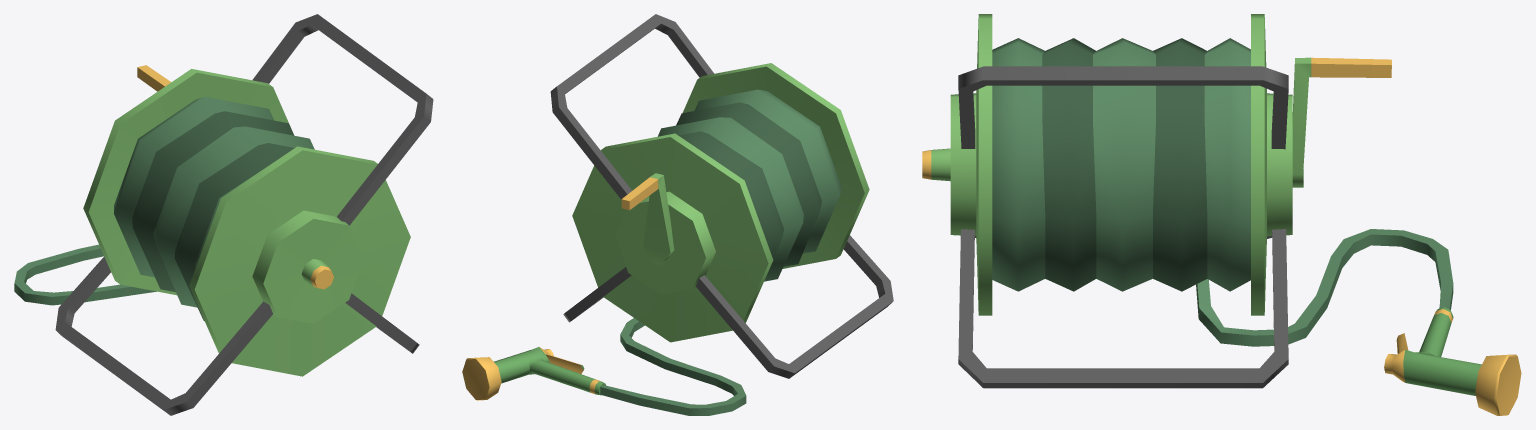
Rendered from SM_Prop_HoseReel_01.obj.
The picture shows the model from 3 angles, left to right: view 1: azimuth 30°, elevation 25°; view 2: azimuth 150°, elevation 25°; view 3: azimuth 270°, elevation 25°; orthographic projection. The views are drawn at different scales.
Visible parts, largest first — view 1: SM_Prop_HoseReel_01_Mat_SwatchOverlay_PolygonTown_01_Inst; view 2: SM_Prop_HoseReel_01_Mat_SwatchOverlay_PolygonTown_01_Inst; view 3: SM_Prop_HoseReel_01_Mat_SwatchOverlay_PolygonTown_01_Inst.
Boxes of the visible parts, left/top/right/bottom form: SM_Prop_HoseReel_01_Mat_SwatchOverlay_PolygonTown_01_Inst: left=14, top=14, right=433, bottom=415; SM_Prop_HoseReel_01_Mat_SwatchOverlay_PolygonTown_01_Inst: left=462, top=14, right=893, bottom=415; SM_Prop_HoseReel_01_Mat_SwatchOverlay_PolygonTown_01_Inst: left=922, top=14, right=1521, bottom=415.
Bounding box in the file's own units: 0.5677 × 0.5408 × 0.8304.
1 material, 1 textured.
